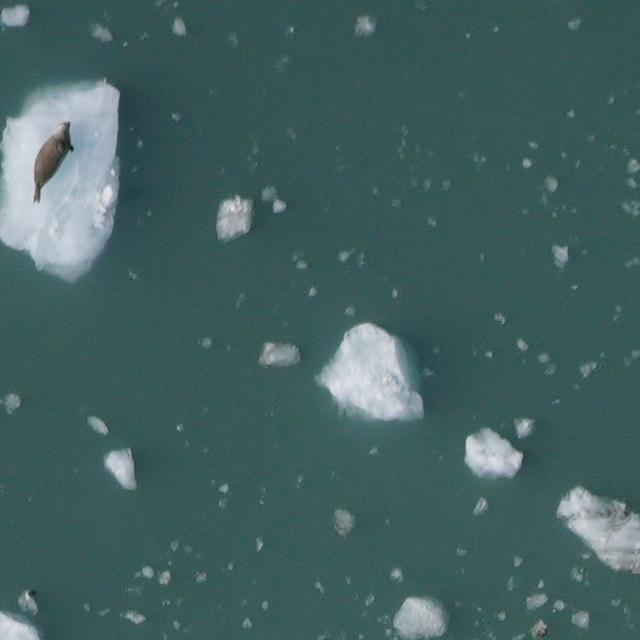seal: (28, 114, 81, 207)
